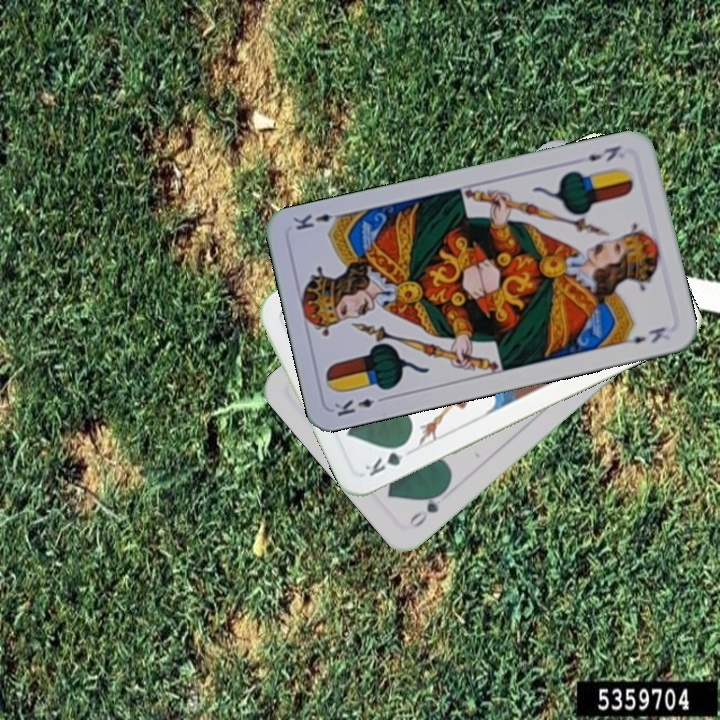EK: (330, 392, 390, 419), (583, 141, 624, 164)
GK: (361, 438, 411, 479)
GO: (405, 484, 450, 530)
